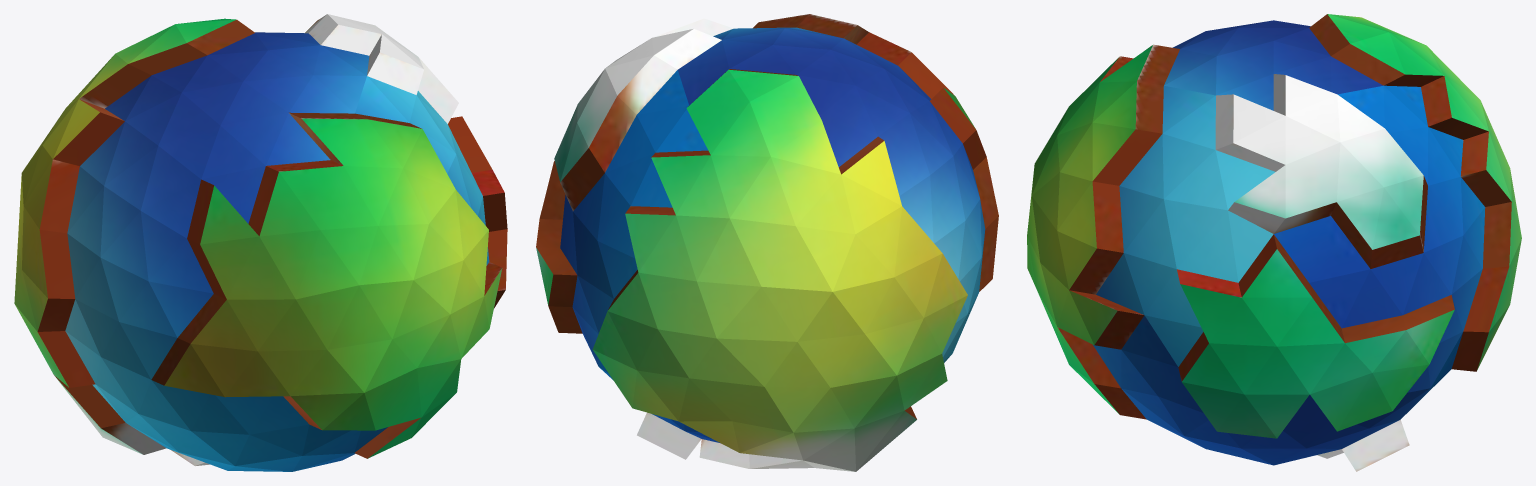
The model's file is terra_word.fbx.
The picture shows the model from 3 angles, left to right: view 1: azimuth 30°, elevation 25°; view 2: azimuth 150°, elevation 25°; view 3: azimuth 270°, elevation 25°; orthographic projection. The views are drawn at different scales.
Visible parts, largest first — view 1: terra; view 2: terra; view 3: terra.
Part boxes in pixels (x1=…): terra: x1=14, y1=14, x2=507, y2=471; terra: x1=536, y1=14, x2=998, y2=471; terra: x1=1027, y1=14, x2=1521, y2=471.
Bounding box in the file's own units: 416 × 386 × 420.
1 material, 1 textured.
